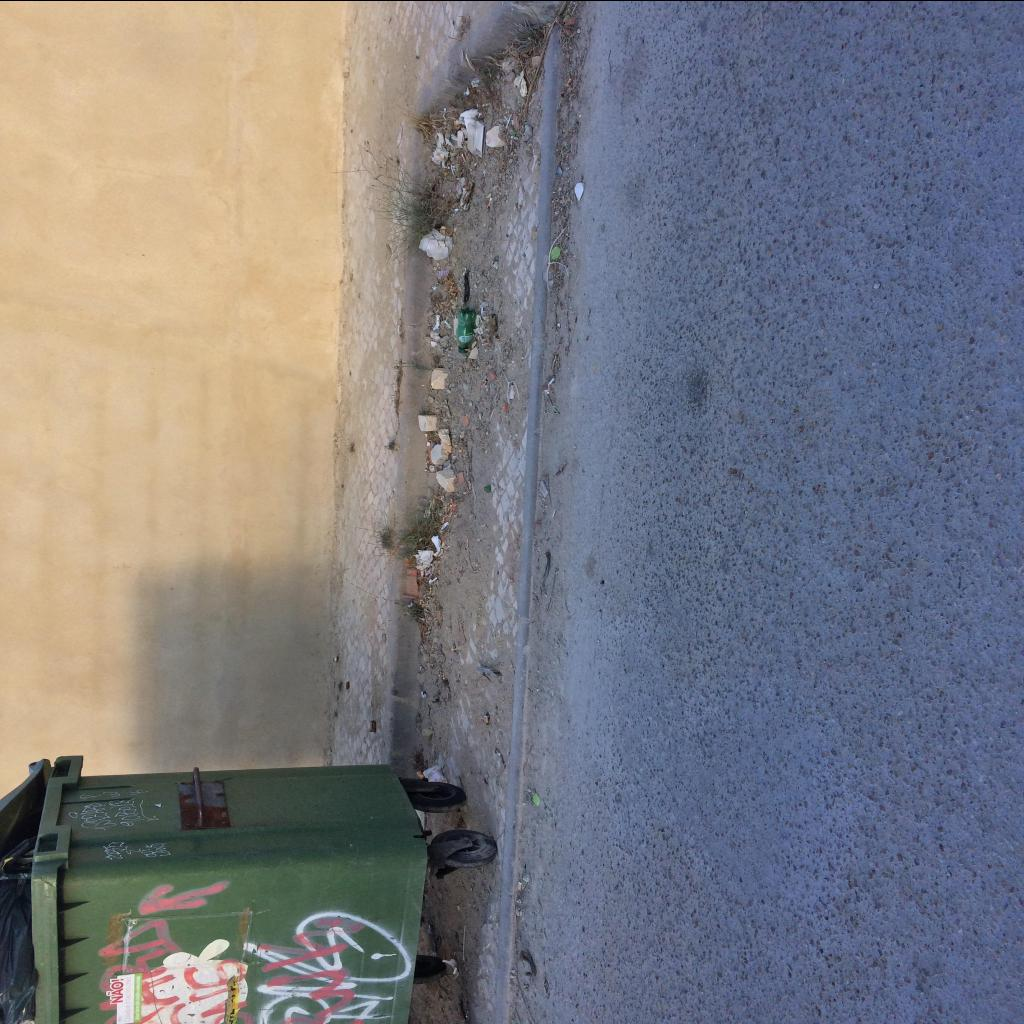Broken glass: (483, 484, 489, 492)
Cigarette: (422, 764, 450, 782), (550, 246, 560, 258), (544, 384, 552, 394), (516, 880, 522, 890), (488, 196, 492, 207)
Clear plastic bottle: (455, 308, 476, 352)
Garbage bag: (0, 877, 40, 1023)
Normal paper: (413, 549, 434, 569), (436, 270, 452, 278)
Other plastic bottle: (441, 957, 458, 973), (534, 792, 540, 804), (482, 378, 488, 386)
Other plastic cup: (468, 120, 486, 157)
Unlabeled litter: (430, 130, 448, 166), (514, 70, 526, 94), (430, 534, 442, 554), (574, 182, 586, 200), (432, 314, 440, 330), (472, 74, 480, 86), (442, 519, 450, 530), (566, 76, 574, 85)
